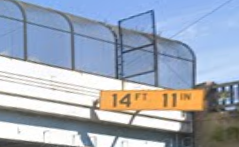1: (168, 89, 179, 110), (158, 91, 169, 108), (109, 92, 119, 108)
4: (118, 91, 132, 109)
overheadsign: (98, 88, 204, 111)
